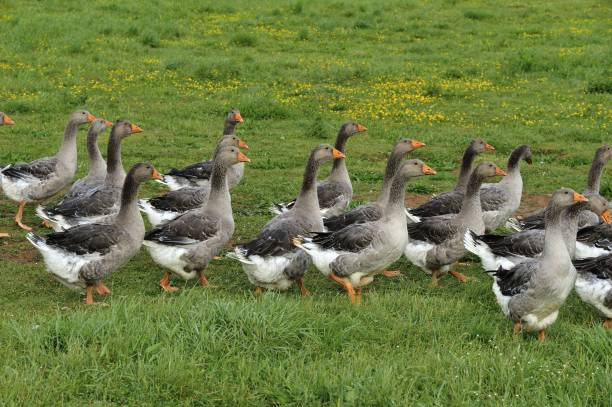goose: (294, 156, 439, 305), (25, 163, 168, 307), (229, 145, 350, 300), (480, 185, 587, 352), (146, 147, 256, 302), (393, 161, 507, 290), (2, 104, 97, 237), (146, 133, 262, 233), (271, 116, 372, 227), (470, 190, 609, 270), (325, 129, 427, 233), (425, 138, 543, 219), (408, 135, 500, 222), (69, 118, 146, 217), (62, 115, 120, 208), (218, 108, 248, 136)
